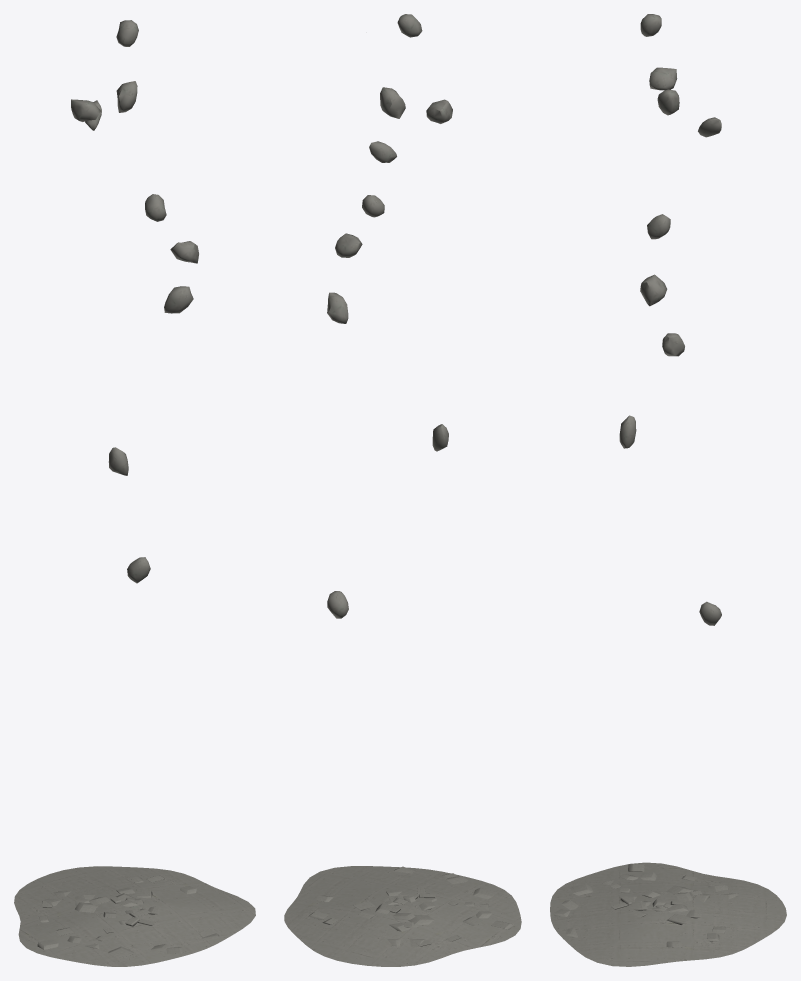
Rendered from SER-DEM-002_anim.glb.
3 views of the same model, side by side, from view 1: azimuth 30°, elevation 25°; view 2: azimuth 150°, elevation 25°; view 3: azimuth 270°, elevation 25° (orthographic).
Visible parts, largest first — view 1: SER-DEM-002_anim_monte, SER-DEM-002_anim_t2, SER-DEM-002_anim_t6, SER-DEM-002_anim_t7; view 2: SER-DEM-002_anim_monte, SER-DEM-002_anim_t6, SER-DEM-002_anim_t2; view 3: SER-DEM-002_anim_monte, SER-DEM-002_anim_t3, SER-DEM-002_anim_t7.
Part boxes in pixels (x1,y1,x2,y2): SER-DEM-002_anim_monte: [14, 866, 255, 966]; SER-DEM-002_anim_t2: [164, 286, 193, 313]; SER-DEM-002_anim_t6: [116, 81, 137, 112]; SER-DEM-002_anim_t7: [71, 99, 100, 121]; SER-DEM-002_anim_monte: [284, 866, 521, 966]; SER-DEM-002_anim_t6: [380, 87, 405, 118]; SER-DEM-002_anim_t2: [327, 292, 348, 323]; SER-DEM-002_anim_monte: [550, 862, 786, 966]; SER-DEM-002_anim_t3: [640, 274, 667, 306]; SER-DEM-002_anim_t7: [649, 67, 677, 90].
Size of the model in its own units: 0.4215 by 1.69 by 0.404.
Materials: 1 (1 with a texture image).
